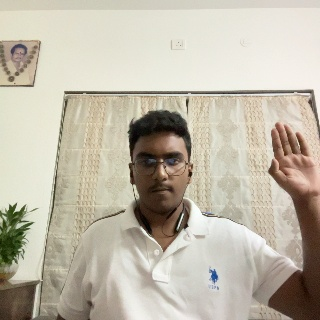Face: (127, 112, 196, 213)
Hello: (265, 121, 320, 213)
